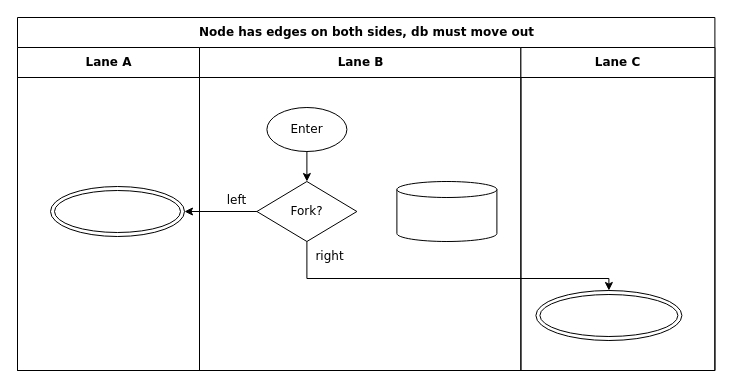
Some shapes in this 733 by 388 pixel diagram are drawn without their labels. The centre of each missing label's shape, as x and y in pixels:
"DB.LOG" belongs at point 446,211.
"Left branch" belongs at point 117,211.
"Right branch" belongs at point 608,315.
